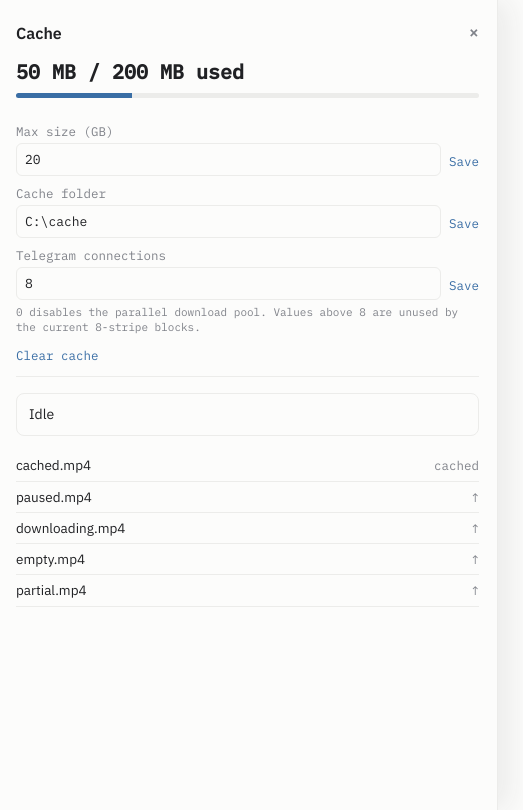
Scenario: CacheDrawer › re-enables the cache-now button and shows the message on a failed request
The image size is (523, 810).
Click the button with class "cache-drawer-item-queue" in the row of "empty.mp4" at (475, 559), box [472, 551, 479, 567]
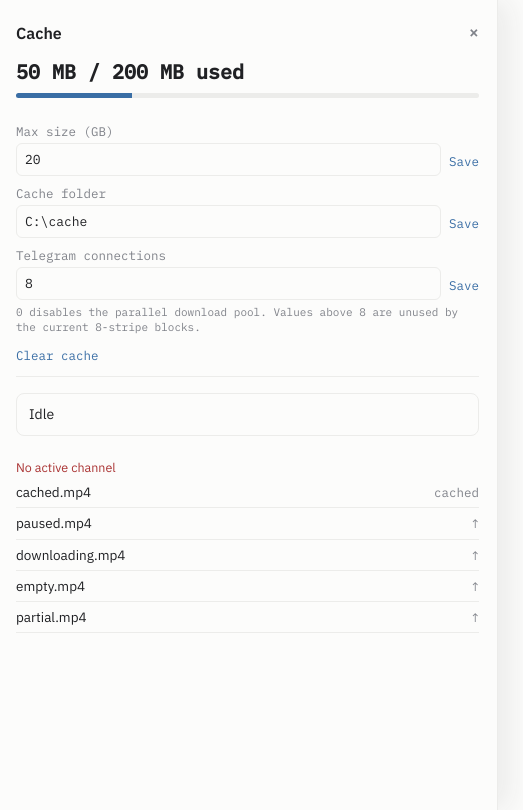
Expected: the button with class "cache-drawer-item-queue" in the row of "empty.mp4" is enabled, [472, 578, 479, 594]
Expected: the message reads "No active channel", [16, 459, 116, 475]
